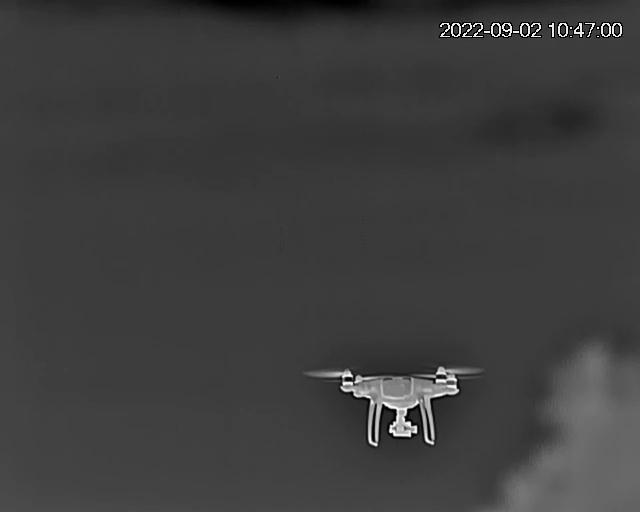DJI-Phantom: (304, 366, 492, 444)
